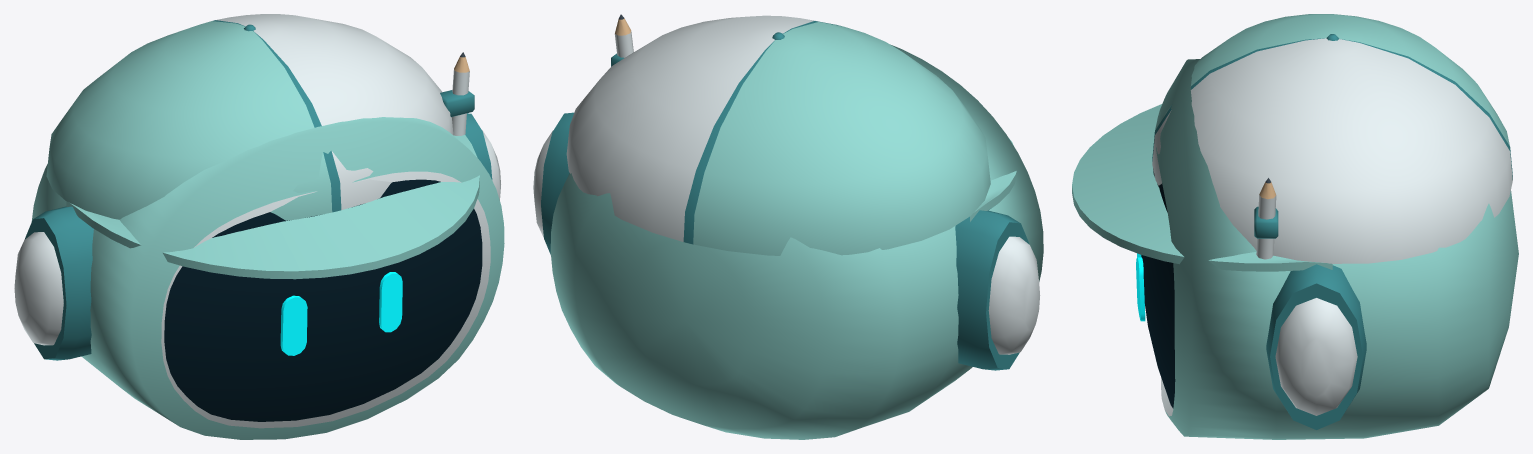
File: copilot_analyst_v01.glb
The picture shows the model from 3 angles, left to right: view 1: azimuth 30°, elevation 25°; view 2: azimuth 150°, elevation 25°; view 3: azimuth 270°, elevation 25°; orthographic projection. The views are drawn at different scales.
Parts seen in each view (by area): view 1: analyst_model; view 2: analyst_model; view 3: analyst_model.
Part boxes in pixels (<box>): analyst_model: <box>14,14,504,439</box>; analyst_model: <box>533,14,1043,439</box>; analyst_model: <box>1072,14,1518,439</box>.
Bounding box in the file's own units: 2.82 × 2.02 × 2.23.
Materials: 2 (2 with a texture image).
